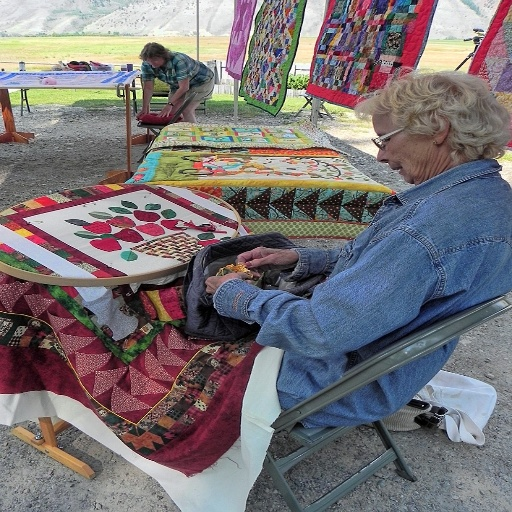hand: (240, 248, 300, 278), (201, 270, 243, 300), (137, 109, 152, 122), (156, 107, 171, 119)
